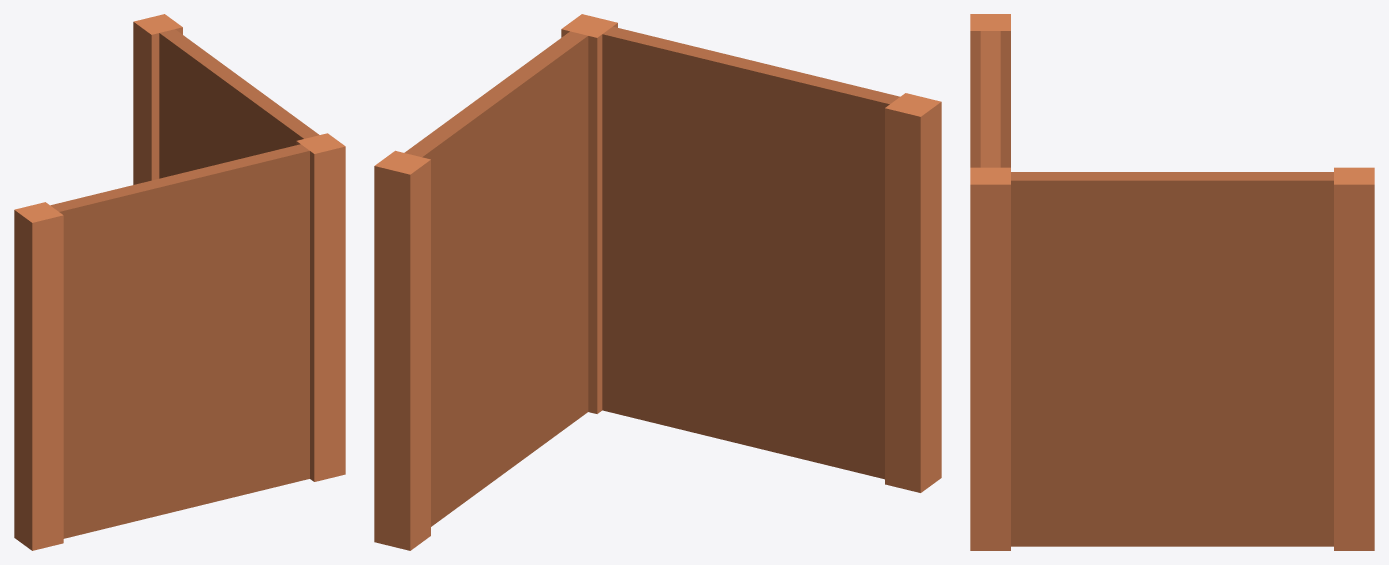
File: wallWoodCorner.obj
3 renders of one model, left to right at view 1: azimuth 30°, elevation 25°; view 2: azimuth 150°, elevation 25°; view 3: azimuth 270°, elevation 25°, orthographic. The views are drawn at different scales.
Visible parts, largest first — view 1: wallWoodCorner; view 2: wallWoodCorner; view 3: wallWoodCorner.
Boxes of the visible parts, <box> form: wallWoodCorner: <box>14,14,345,550</box>; wallWoodCorner: <box>374,14,941,550</box>; wallWoodCorner: <box>970,14,1374,550</box>.
Bounding box in the file's own units: 1 × 1 × 1.
